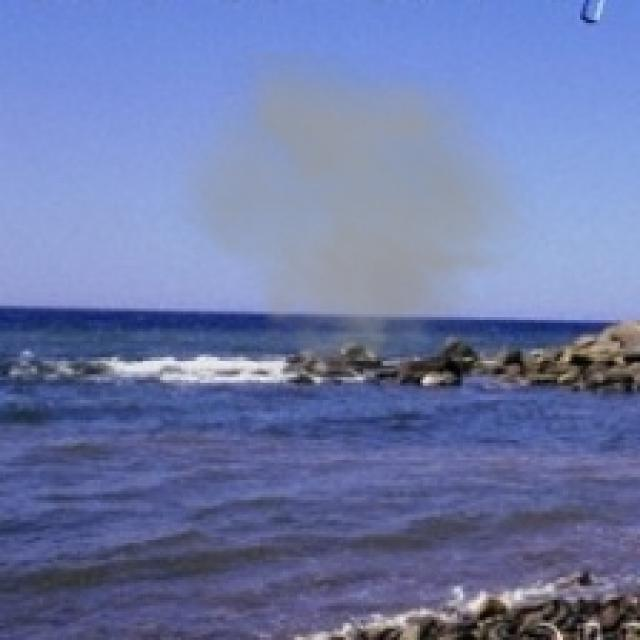smoke: (163, 51, 546, 400)
